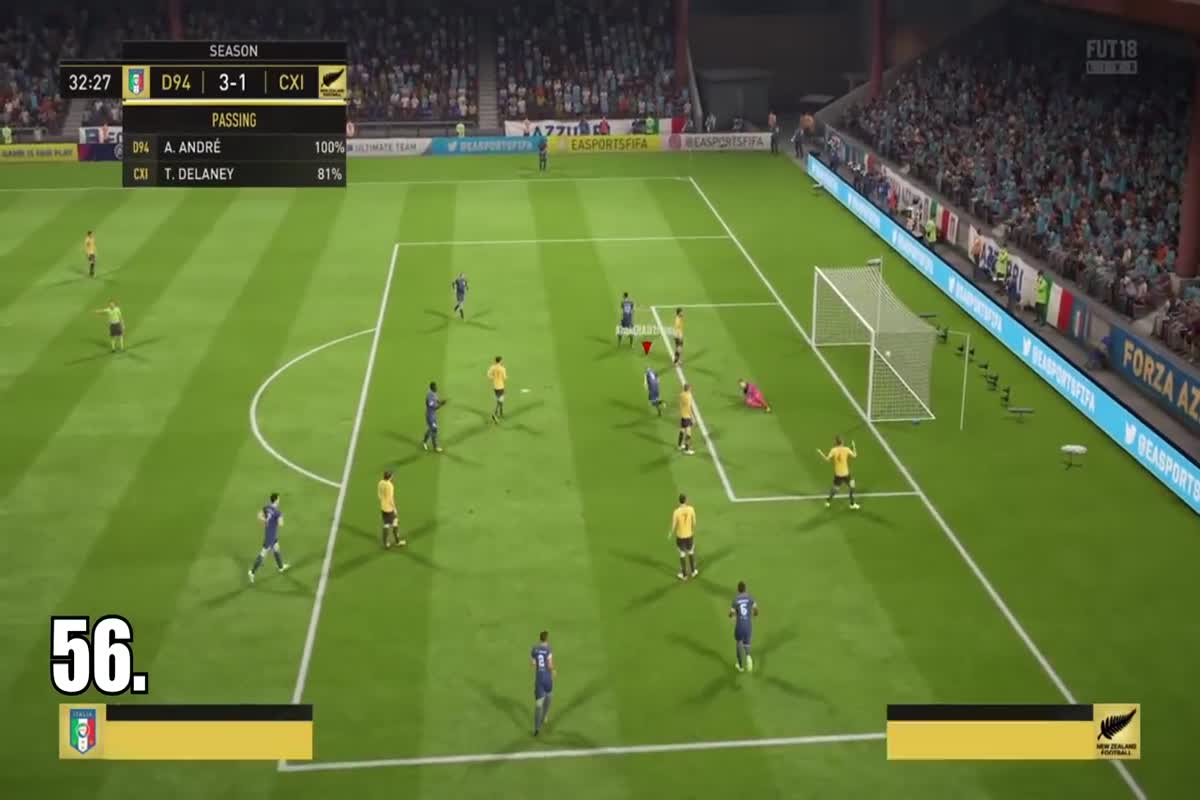ball: (881, 345, 901, 360)
